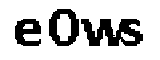0: (46, 6, 81, 51)
e: (12, 17, 42, 51)
s: (122, 17, 145, 50)
w: (79, 15, 122, 51)
